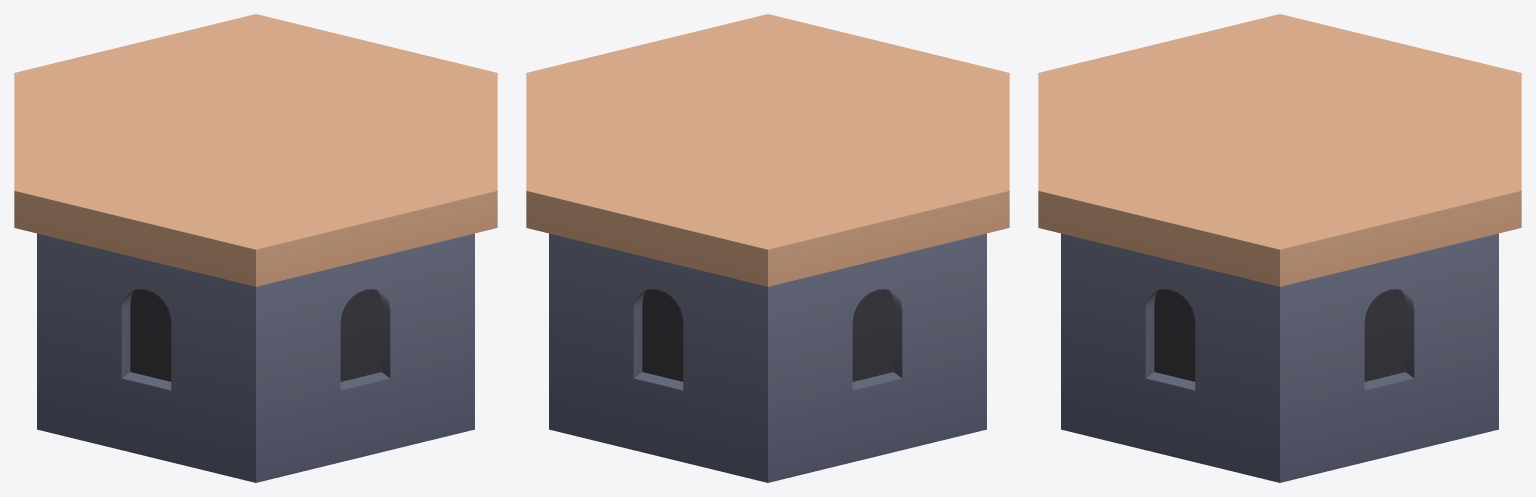
Rendered from tower-hexagon-mid.fbx.
3 views of the same model, side by side, from view 1: azimuth 30°, elevation 25°; view 2: azimuth 150°, elevation 25°; view 3: azimuth 270°, elevation 25° (orthographic).
Visible parts, largest first — view 1: tower-hexagon-mid; view 2: tower-hexagon-mid; view 3: tower-hexagon-mid.
Part boxes in pixels (box(x1,y1,x2,y2)): tower-hexagon-mid: box(14, 14, 497, 482); tower-hexagon-mid: box(526, 14, 1009, 482); tower-hexagon-mid: box(1038, 14, 1521, 482).
Bounding box in the file's own units: 0.9524 × 0.8248 × 0.46.
